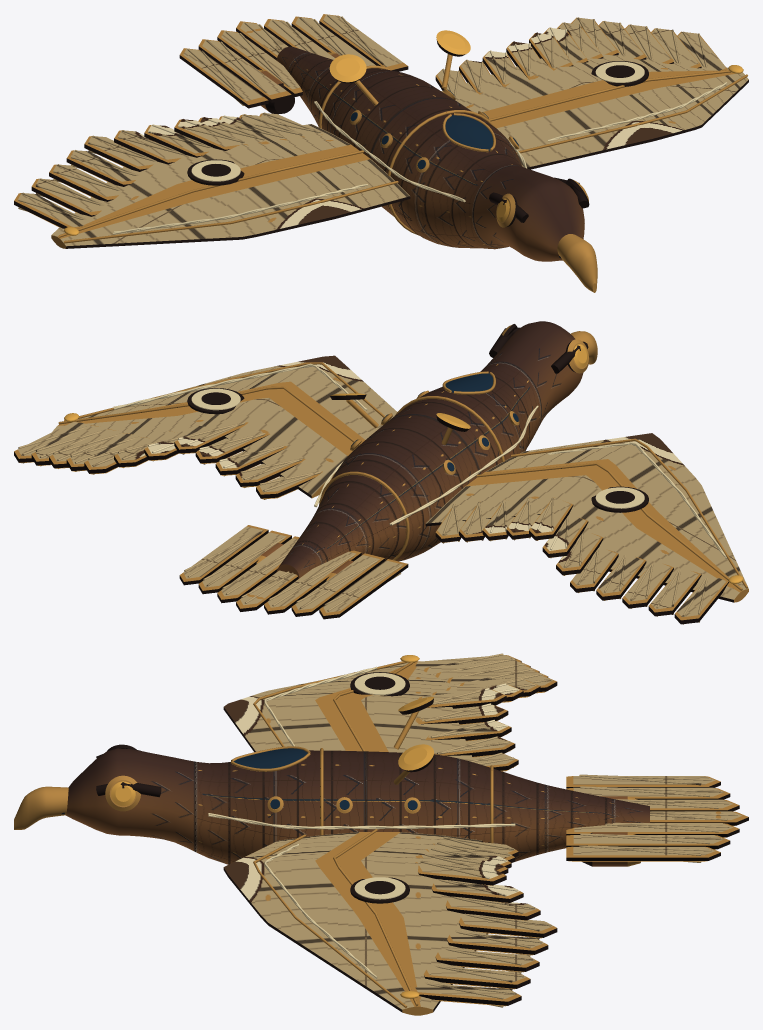
3 views of the same model, one above another, from view 1: azimuth 30°, elevation 25°; view 2: azimuth 150°, elevation 25°; view 3: azimuth 270°, elevation 25° (orthographic). The views are drawn at different scales.
Visible parts, largest first — view 1: osprey_hull; view 2: osprey_hull; view 3: osprey_hull.
Part boxes in pixels (<box>): osprey_hull: <box>14,14,748,292</box>; osprey_hull: <box>14,321,748,624</box>; osprey_hull: <box>14,653,748,1015</box>.
Size of the model in its own units: 41 by 8.8 by 36.76.
Materials: 1 (1 with a texture image).
